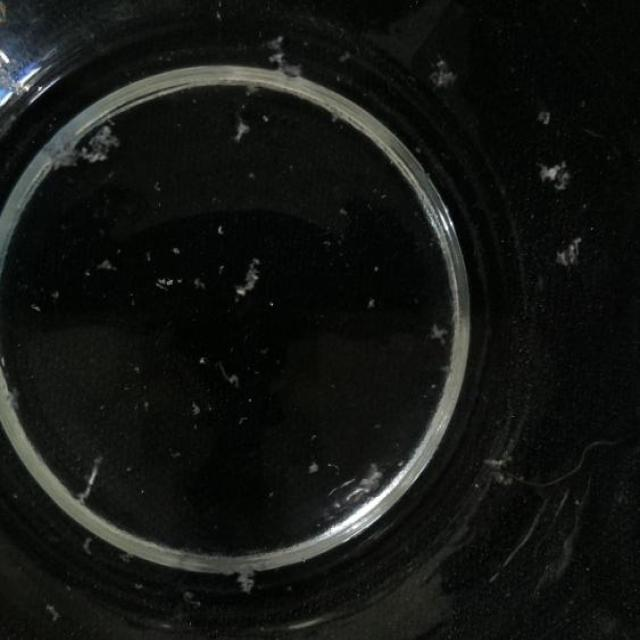fiber: (260, 30, 308, 92), (84, 122, 125, 166), (38, 130, 82, 170), (546, 232, 588, 272), (161, 270, 215, 296), (426, 48, 456, 93), (539, 152, 569, 196), (78, 453, 99, 510), (233, 264, 264, 302), (233, 565, 257, 599), (232, 112, 253, 150), (431, 310, 455, 335), (184, 398, 208, 423), (222, 366, 243, 390), (93, 255, 115, 274), (318, 628, 352, 639)
